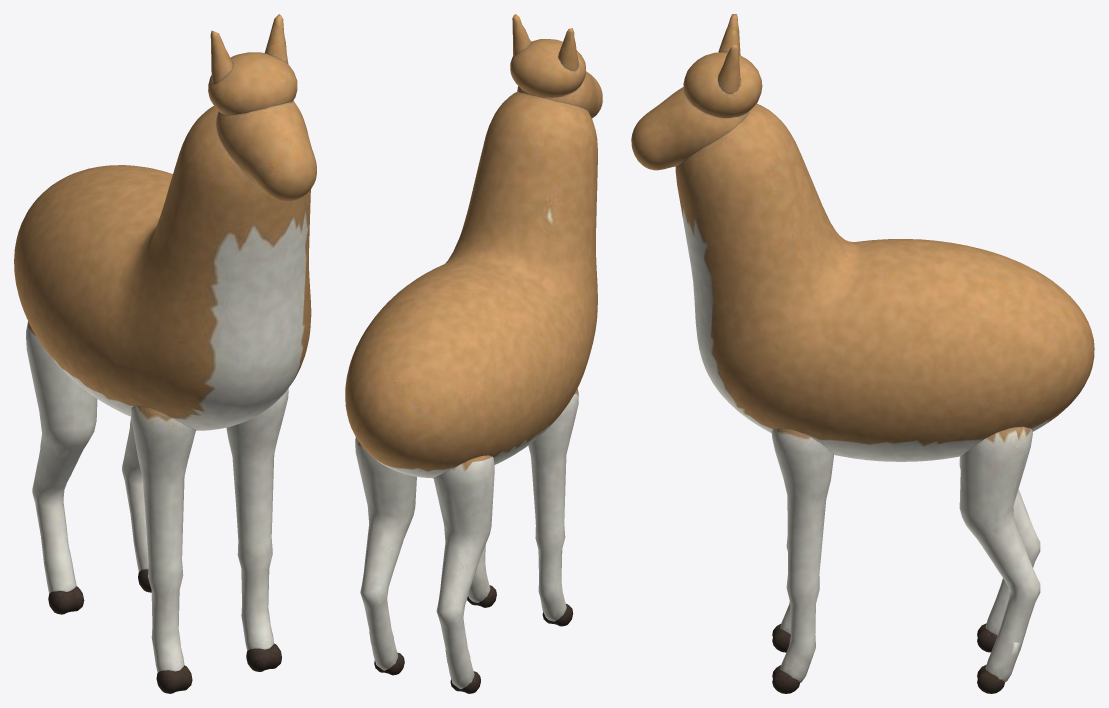
The model's file is animal_vicuna.glb.
3 views of the same model, side by side, from view 1: azimuth 30°, elevation 25°; view 2: azimuth 150°, elevation 25°; view 3: azimuth 270°, elevation 25° (orthographic). The views are drawn at different scales.
Parts seen in each view (by area): view 1: animal_vicuna, head, leg0, leg2, leg1, leg3; view 2: animal_vicuna, leg2, leg3, leg0, head, leg1; view 3: animal_vicuna, leg3, head, leg1, leg2.
Boxes of the visible parts, x1,y1,x2,y2 form: animal_vicuna: [14, 106, 311, 430]; head: [208, 14, 316, 201]; leg0: [131, 406, 195, 693]; leg2: [26, 321, 97, 614]; leg1: [226, 388, 288, 671]; leg3: [122, 417, 151, 592]; animal_vicuna: [345, 91, 597, 478]; leg2: [433, 455, 494, 693]; leg3: [355, 437, 416, 675]; leg0: [528, 388, 578, 626]; head: [510, 14, 602, 118]; leg1: [467, 545, 496, 607]; animal_vicuna: [675, 103, 1094, 461]; leg3: [959, 426, 1040, 693]; head: [631, 14, 762, 170]; leg1: [771, 428, 833, 693]; leg2: [959, 456, 1040, 652].
Size of the model in its own units: 0.2165 by 0.6857 by 0.4493.
1 material, 1 textured.
